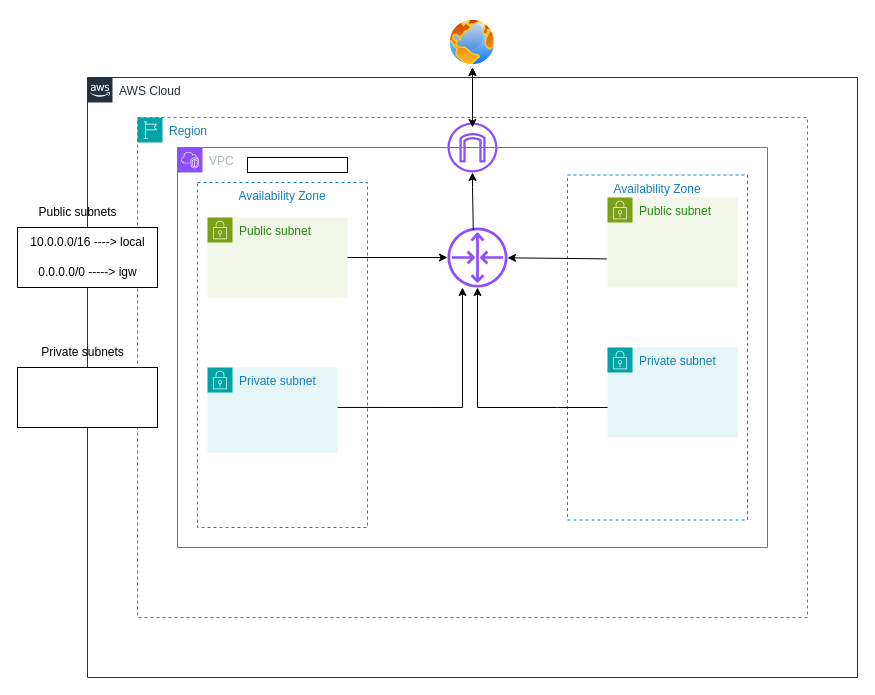
Image size: 875x695. Some labels were removed from this diagram. Here are the shapes that lost their labels. From the top down, the centre of each, then its label:
(297,164): CIDR 10.0.0.0/16
(87,397): 10.0.0.0/16 ------>local
